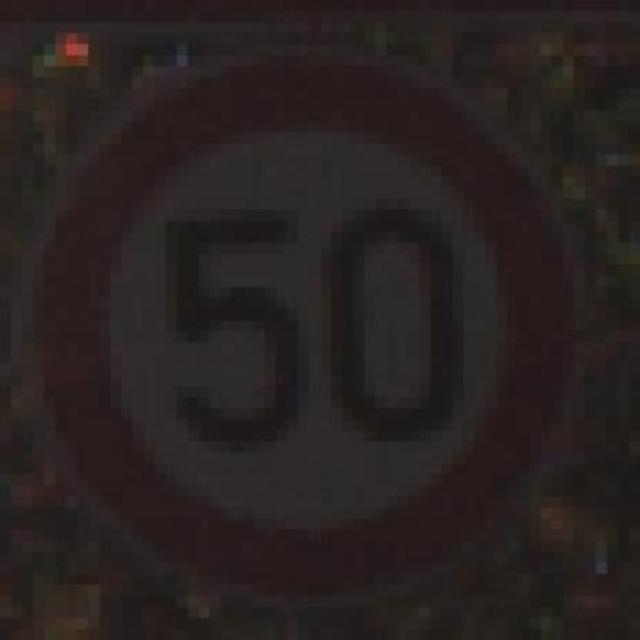forb_speed_over_50: (50, 54, 565, 595)
